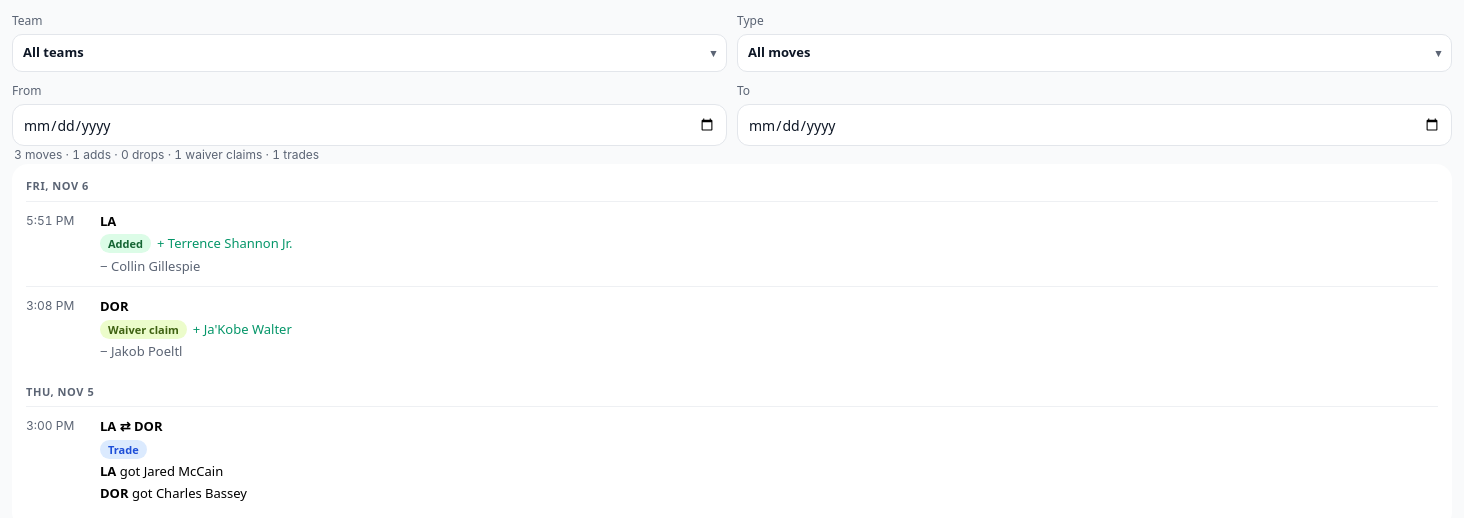
Test: MobileActivityFeed › date range narrows the feed and says when nothing matches
This screenshot has width=1464, height=518.
Type "2026-12-01" into the date field labelled "From" at x=370, y=125, box [12,104,727,146]
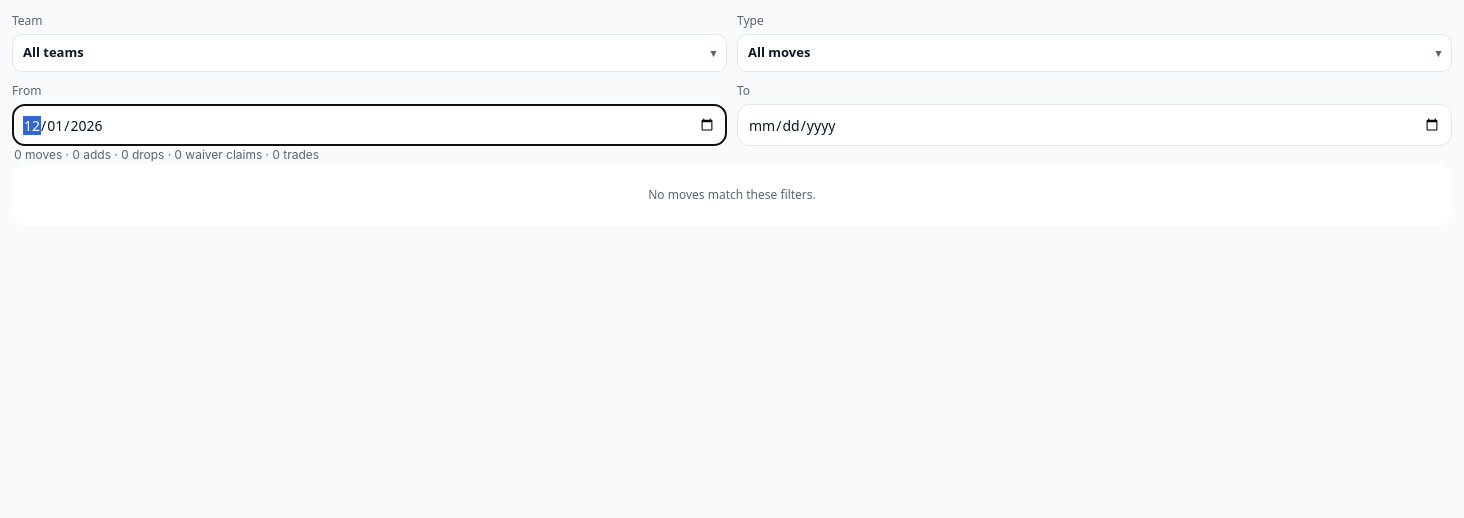
Expected: the text "No moves match these filters." is shown, [648,186,816,203]
